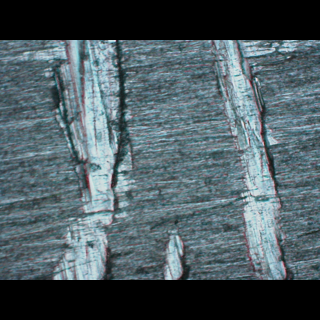d: (200, 40, 297, 279), (50, 40, 127, 280), (155, 225, 195, 280)
